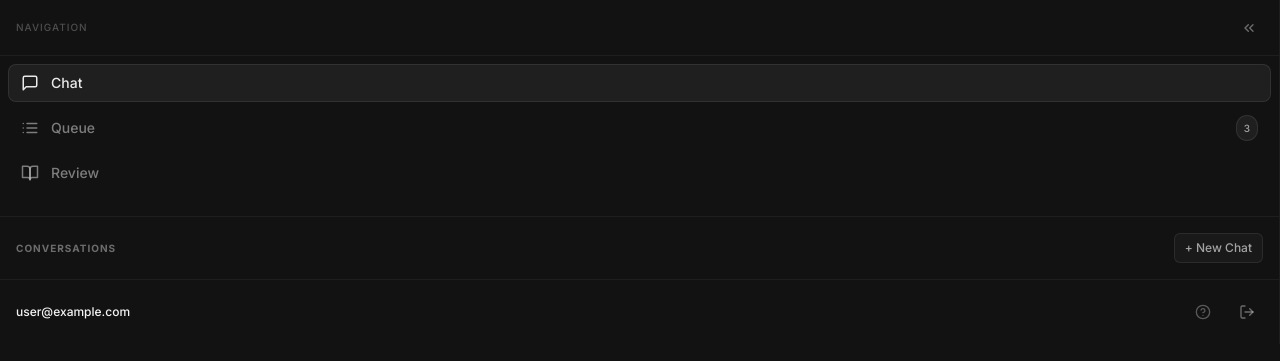
Test: AppSidebar queue integration › keeps the Queue route discoverable when the sidebar is collapsed
The image size is (1280, 361).
Step 1. Click the button titled "Collapse Sidebar" → x=1249, y=28, box [1235,14,1263,42]
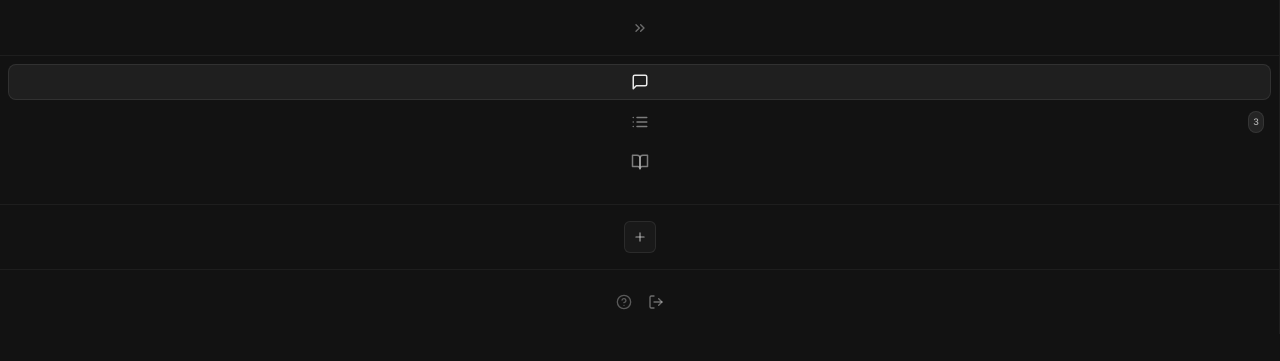
Expected: the text named "Queue unread count: 3" is shown, [1248,111,1264,133]
Now the text "Queue" is gone
